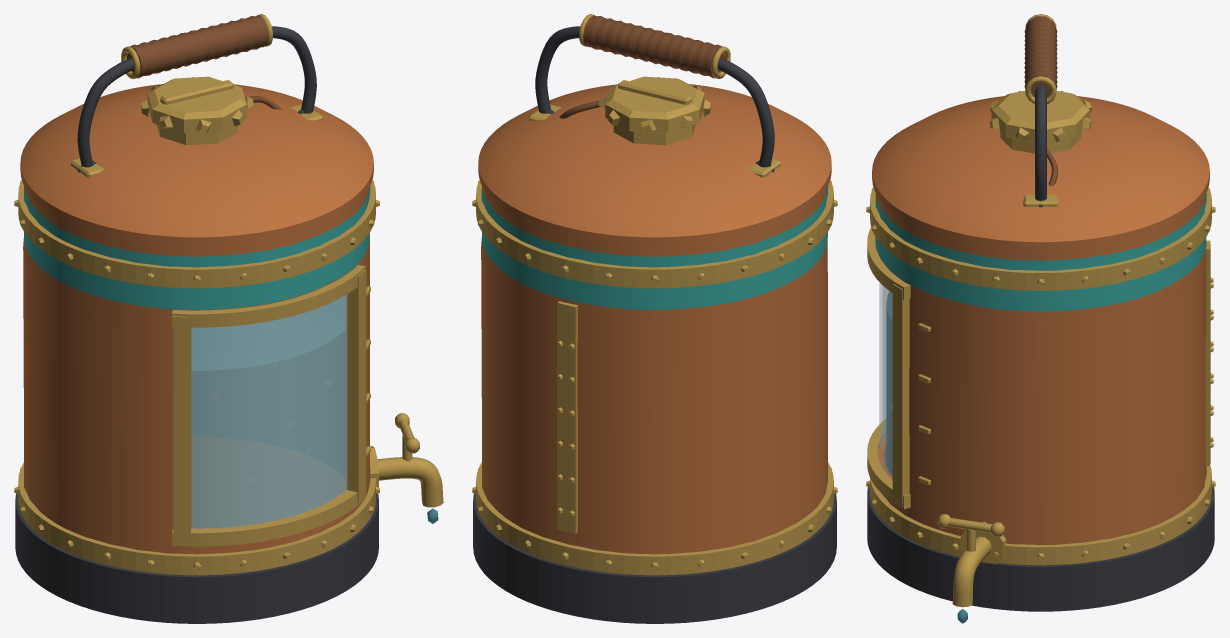
File: carry_tank_water.fbx
The picture shows the model from 3 angles, left to right: view 1: azimuth 30°, elevation 25°; view 2: azimuth 150°, elevation 25°; view 3: azimuth 270°, elevation 25°; orthographic projection. The views are drawn at different scales.
Visible parts, largest first — view 1: Carry_Tank_Water_Shell, Carry_Tank_Water_Frame, Carry_Tank_Water_Glass, Carry_Tank_Water_Liquid, Carry_Tank_Water_Foot, Carry_Tank_Water_Handle, Carry_Tank_Water_Cap, Carry_Tank_Water_Spigot; view 2: Carry_Tank_Water_Shell, Carry_Tank_Water_Frame, Carry_Tank_Water_Foot, Carry_Tank_Water_Handle, Carry_Tank_Water_Cap, Carry_Tank_Water_LidFittings; view 3: Carry_Tank_Water_Shell, Carry_Tank_Water_Frame, Carry_Tank_Water_Foot, Carry_Tank_Water_Cap, Carry_Tank_Water_Handle, Carry_Tank_Water_Spigot, Carry_Tank_Water_Glass, Carry_Tank_Water_Liquid.
Part boxes in pixels (x1,y1,x2,y2): Carry_Tank_Water_Shell: (20, 84, 373, 554); Carry_Tank_Water_Frame: (14, 180, 379, 575); Carry_Tank_Water_Glass: (191, 294, 347, 528); Carry_Tank_Water_Liquid: (191, 295, 345, 528); Carry_Tank_Water_Foot: (15, 493, 378, 623); Carry_Tank_Water_Handle: (77, 14, 316, 172); Carry_Tank_Water_Cap: (141, 76, 282, 145); Carry_Tank_Water_Spigot: (370, 413, 443, 507); Carry_Tank_Water_Shell: (478, 84, 831, 554); Carry_Tank_Water_Frame: (472, 180, 837, 575); Carry_Tank_Water_Foot: (473, 493, 836, 623); Carry_Tank_Water_Handle: (535, 14, 774, 172); Carry_Tank_Water_Cap: (559, 76, 711, 145); Carry_Tank_Water_LidFittings: (529, 104, 780, 177); Carry_Tank_Water_Shell: (872, 96, 1209, 544); Carry_Tank_Water_Frame: (866, 187, 1215, 565); Carry_Tank_Water_Foot: (867, 487, 1214, 611); Carry_Tank_Water_Cap: (990, 90, 1091, 185); Carry_Tank_Water_Handle: (1024, 14, 1057, 207); Carry_Tank_Water_Spigot: (937, 514, 1006, 607); Carry_Tank_Water_Glass: (879, 282, 892, 479); Carry_Tank_Water_Liquid: (886, 291, 892, 476).
Size of the model in its own units: 56.84 by 77.25 by 49.65.
